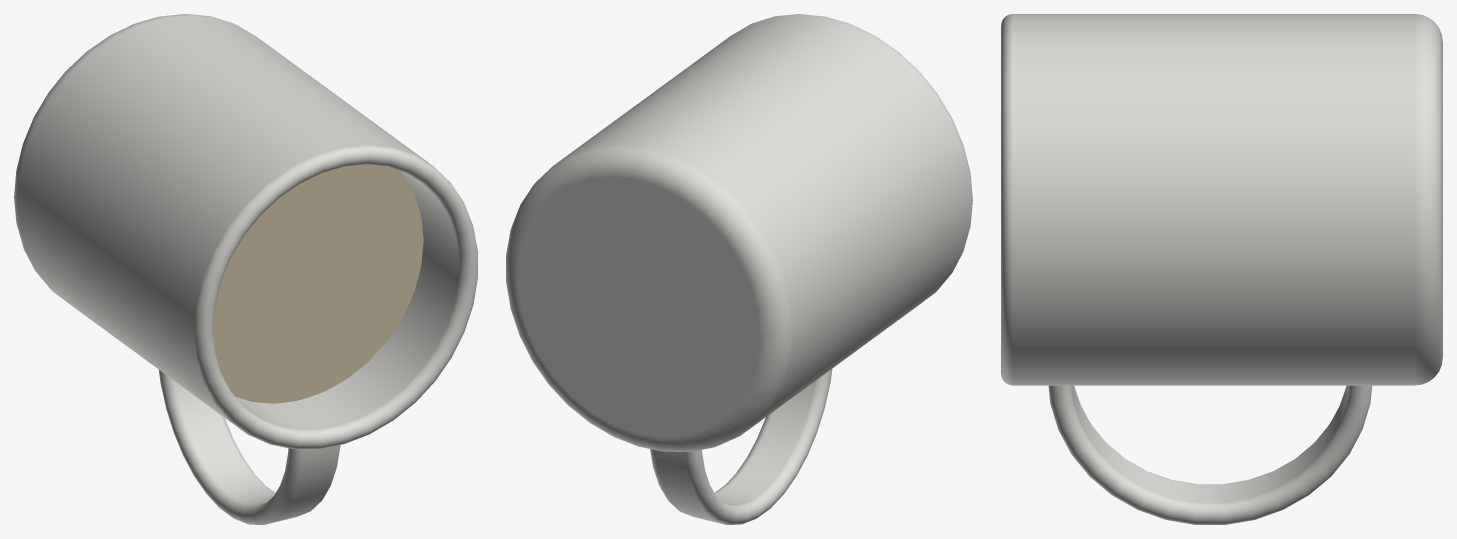
The model's file is Cup.glb.
3 renders of one model, left to right at view 1: azimuth 30°, elevation 25°; view 2: azimuth 150°, elevation 25°; view 3: azimuth 270°, elevation 25°, orthographic. The views are drawn at different scales.
Parts seen in each view (by area): view 1: Cup; view 2: Cup; view 3: Cup.
Part boxes in pixels (left/top/right/bottom): Cup: left=14, top=14, right=477, bottom=524; Cup: left=506, top=14, right=972, bottom=524; Cup: left=1001, top=14, right=1442, bottom=524.
Size of the model in its own units: 7.98 by 11.48 by 9.5.
